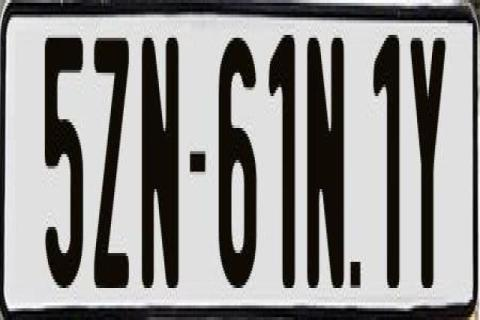0: (217, 35, 260, 291), (44, 32, 84, 282), (370, 35, 404, 297), (269, 35, 299, 303)
N: (308, 35, 348, 288), (142, 32, 179, 300)
Y: (409, 32, 446, 288)
Z: (92, 29, 128, 288)
